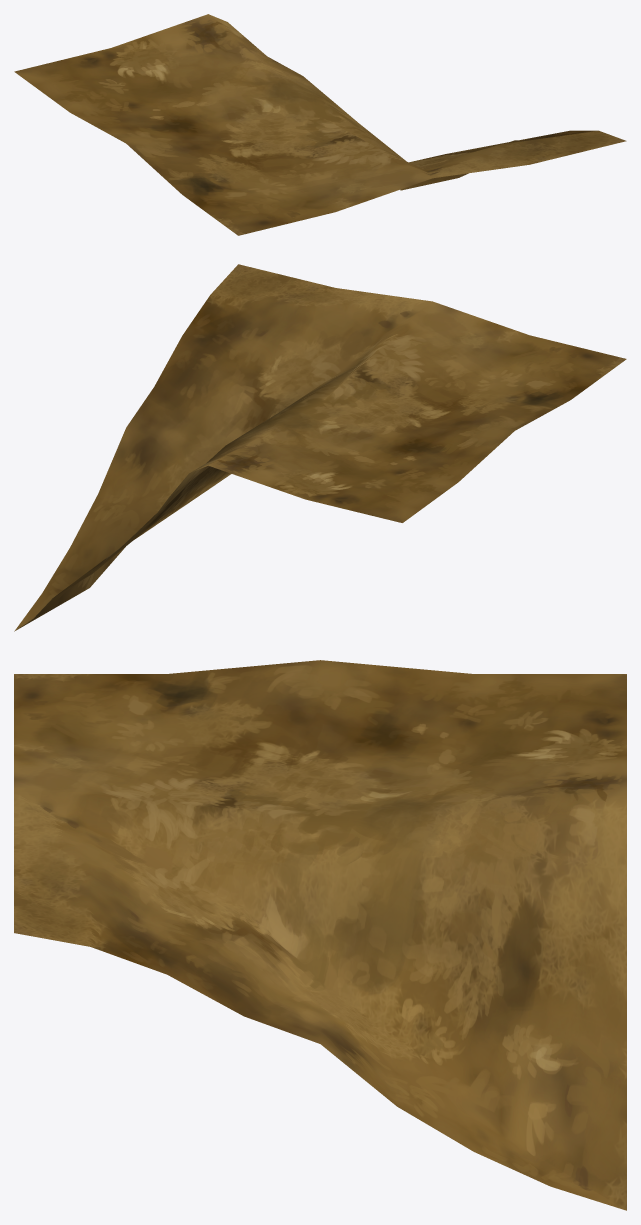
File: Slope_Level_Incline_007.fbx
3 views of the same model, one above another, from view 1: azimuth 30°, elevation 25°; view 2: azimuth 150°, elevation 25°; view 3: azimuth 270°, elevation 25° (orthographic). The views are drawn at different scales.
Parts seen in each view (by area): view 1: Slope_Level_Incline_007; view 2: Slope_Level_Incline_007; view 3: Slope_Level_Incline_007.
Boxes of the visible parts, x1,y1,x2,y2 form: Slope_Level_Incline_007: [14, 14, 626, 235]; Slope_Level_Incline_007: [14, 264, 626, 631]; Slope_Level_Incline_007: [14, 660, 626, 1210].
Size of the model in its own units: 10 by 5.25 by 10.
Materials: 1 (1 with a texture image).
